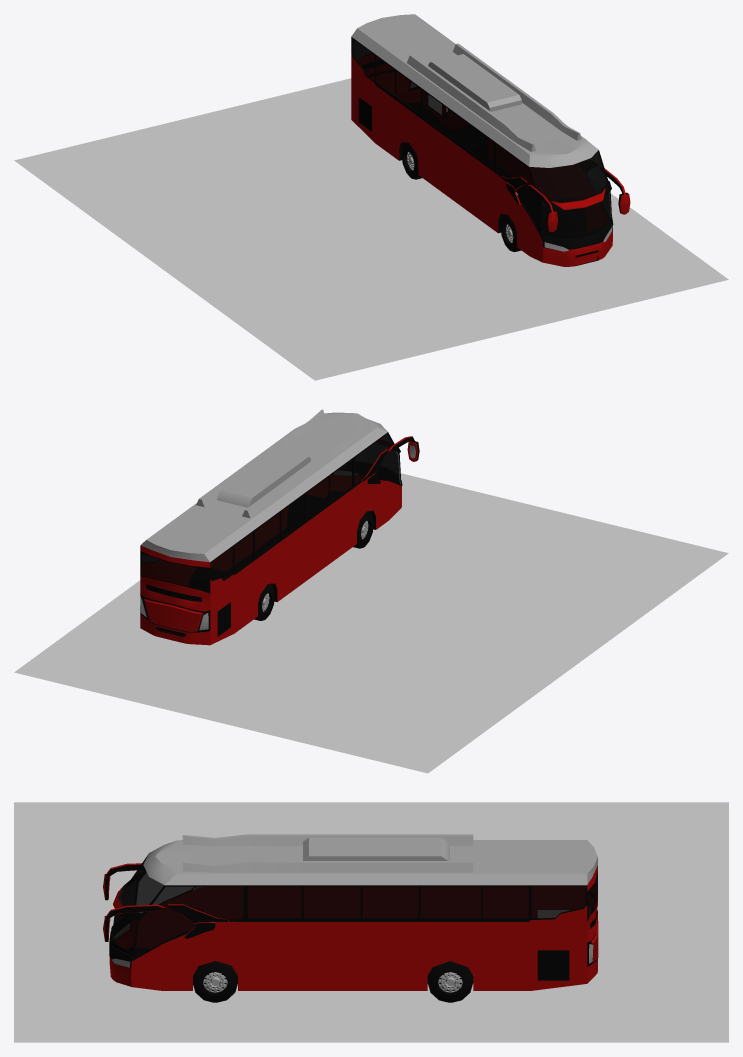
Rendered from myBus.obj.
The picture shows the model from 3 angles, top to bottom: view 1: azimuth 30°, elevation 25°; view 2: azimuth 150°, elevation 25°; view 3: azimuth 270°, elevation 25°; orthographic projection. The views are drawn at different scales.
Parts seen in each view (by area): view 1: jalan_Plane, body_bus_Cube; view 2: jalan_Plane, body_bus_Cube; view 3: jalan_Plane, body_bus_Cube.
Part boxes in pixels (x1,y1,x2,y2): jalan_Plane: (14,78,728,380); body_bus_Cube: (351,14,630,266); jalan_Plane: (14,473,728,773); body_bus_Cube: (140,409,419,645); jalan_Plane: (14,802,728,1042); body_bus_Cube: (103,834,598,1002).
Bounding box in the file's own units: 18.29 × 4.87 × 23.02.
